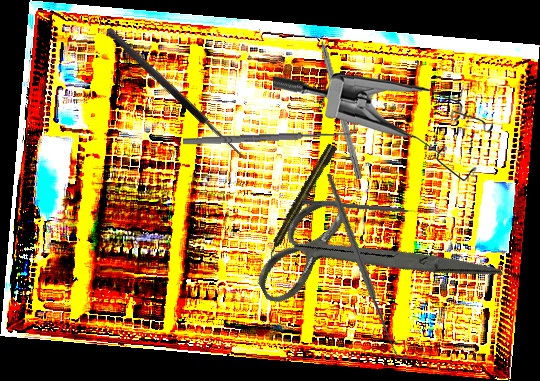Handpiece: (263, 142, 339, 260)
Hook Surgical: (297, 173, 437, 360), (105, 20, 255, 162), (313, 21, 365, 180), (182, 121, 356, 148), (301, 199, 425, 217)
Iris Scissors: (237, 140, 503, 378)
Speculum: (273, 68, 494, 186)
